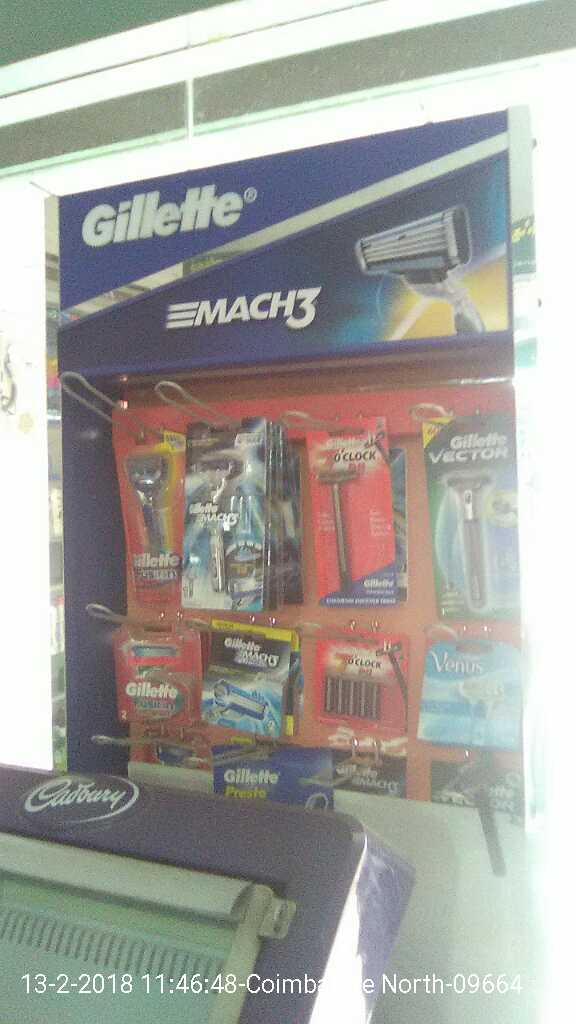beauty: (428, 405, 529, 633), (304, 407, 409, 607), (176, 413, 273, 614), (114, 396, 182, 605), (417, 641, 526, 763), (193, 617, 298, 735), (317, 621, 412, 742), (123, 627, 187, 730)
